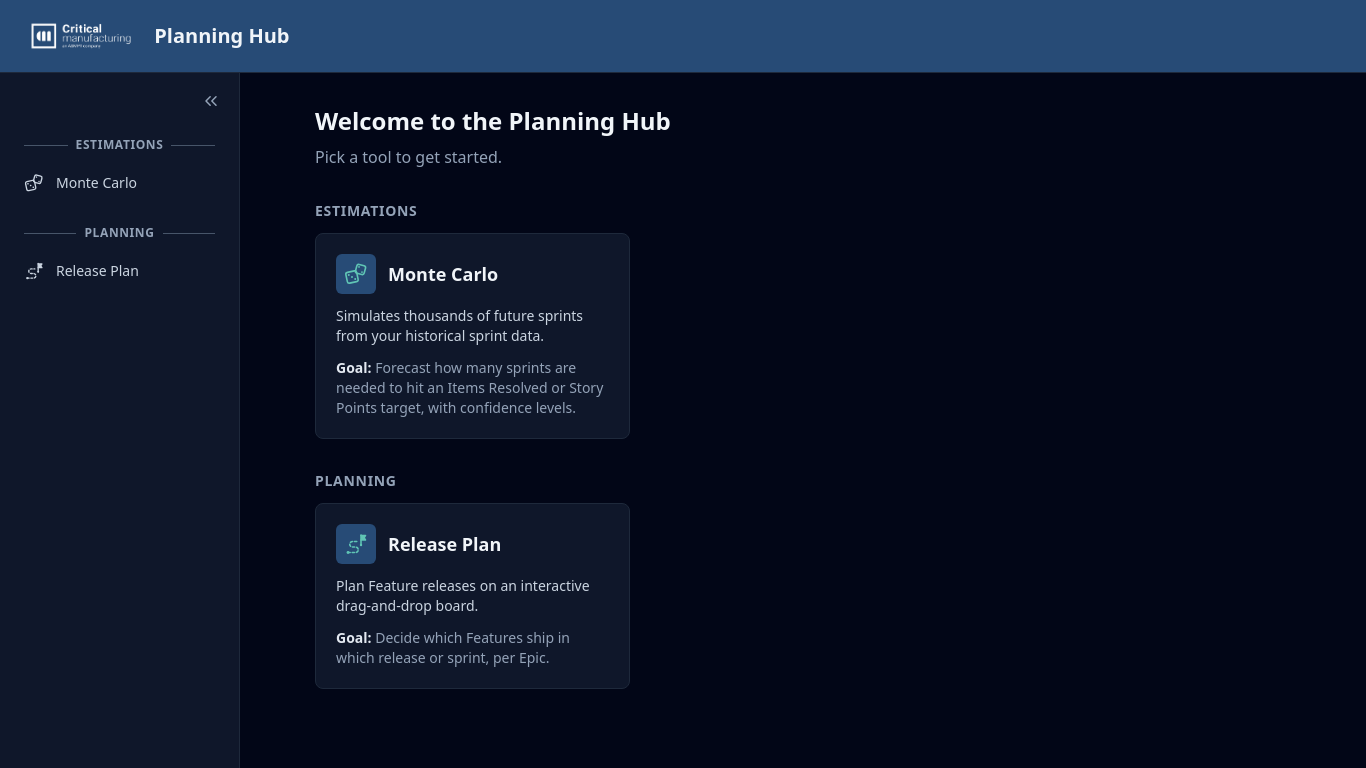
Test: Sidebar collapse – full app › falls back to expanded and still toggles when localStorage is unavailable
The width and height of the screenshot is (1366, 768).
Click the button named "Collapse sidebar" at (211, 101), box [195,85,227,117]
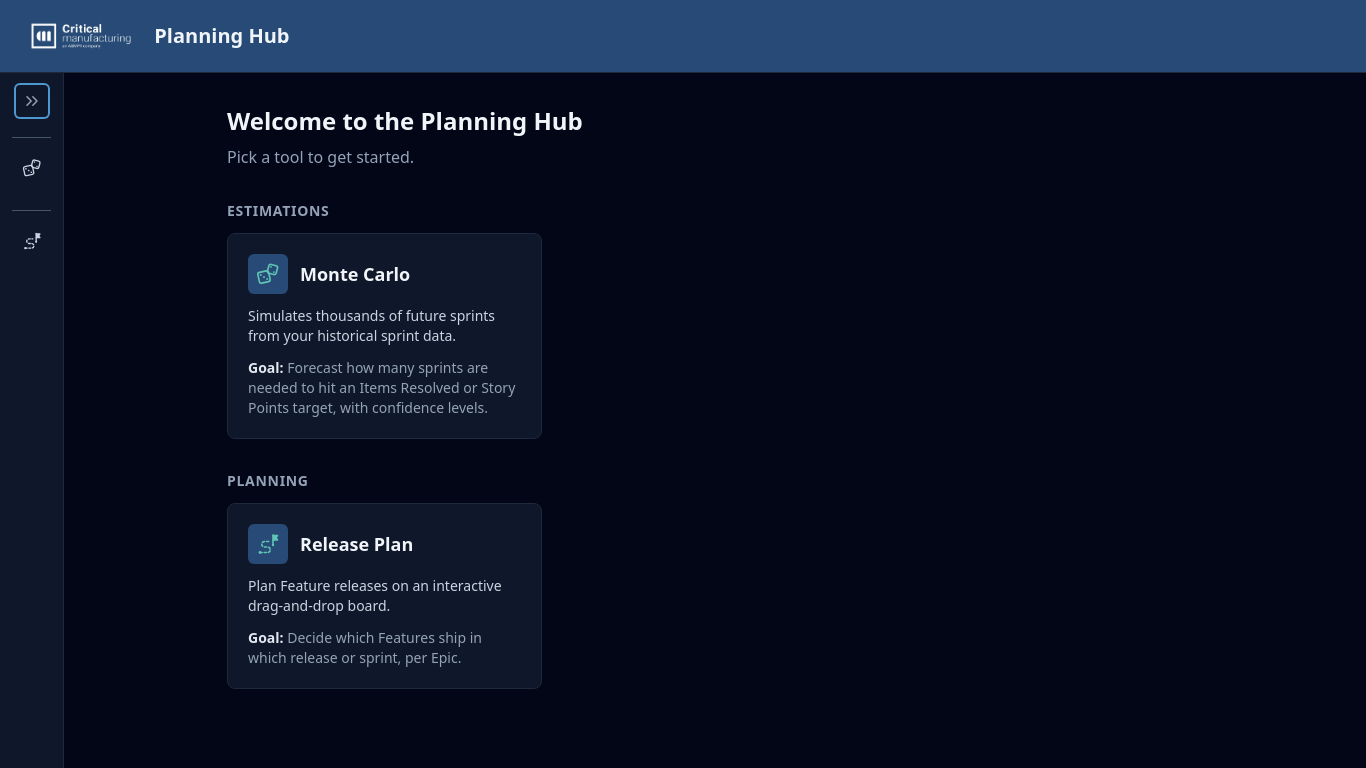
Expected: the 2nd icon is shown, [22,158,42,178]
Expected: the button named "Expand sidebar" is collapsed, [16,85,48,117]
